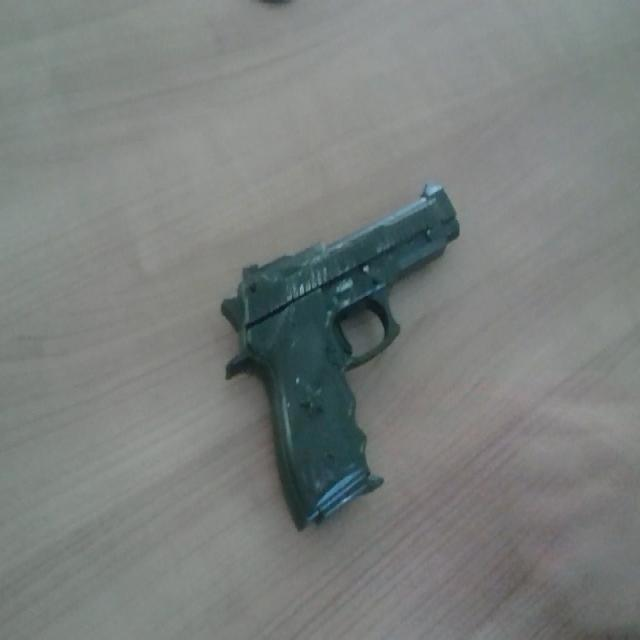handgun: (197, 167, 550, 540)
